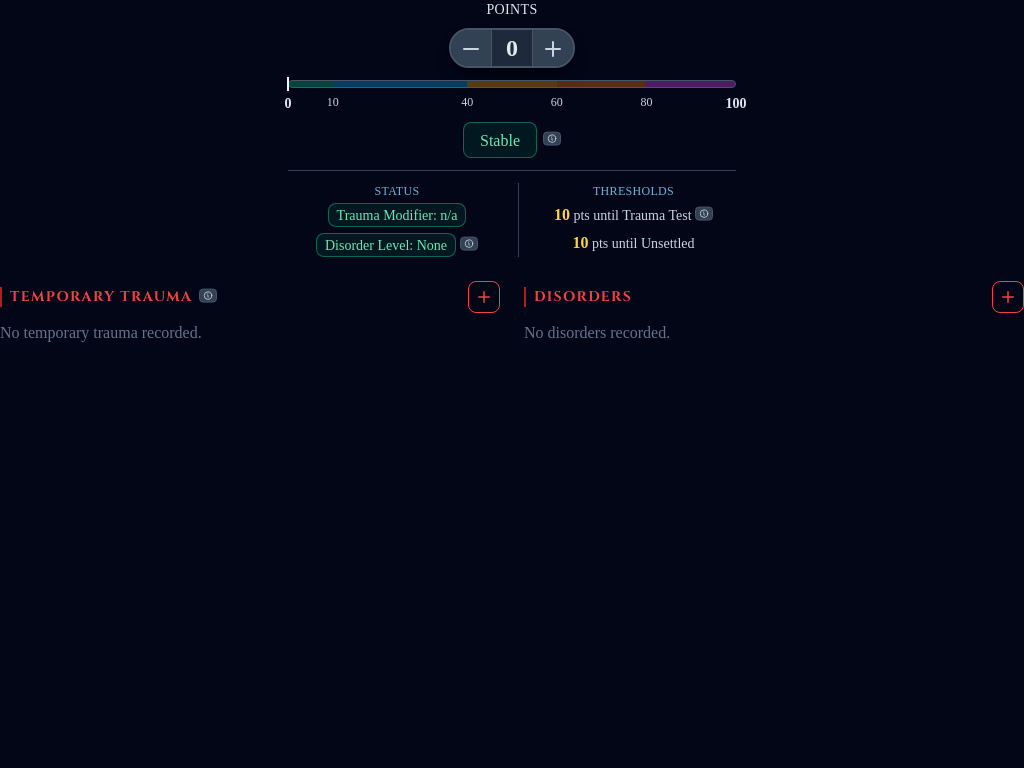
InsanityPanel picker wiring › opens the Disorder picker from the Disorders + Add button
Click the button named "Add Disorder" at (1008, 297), box x1=992 y1=281 x2=1023 y2=313
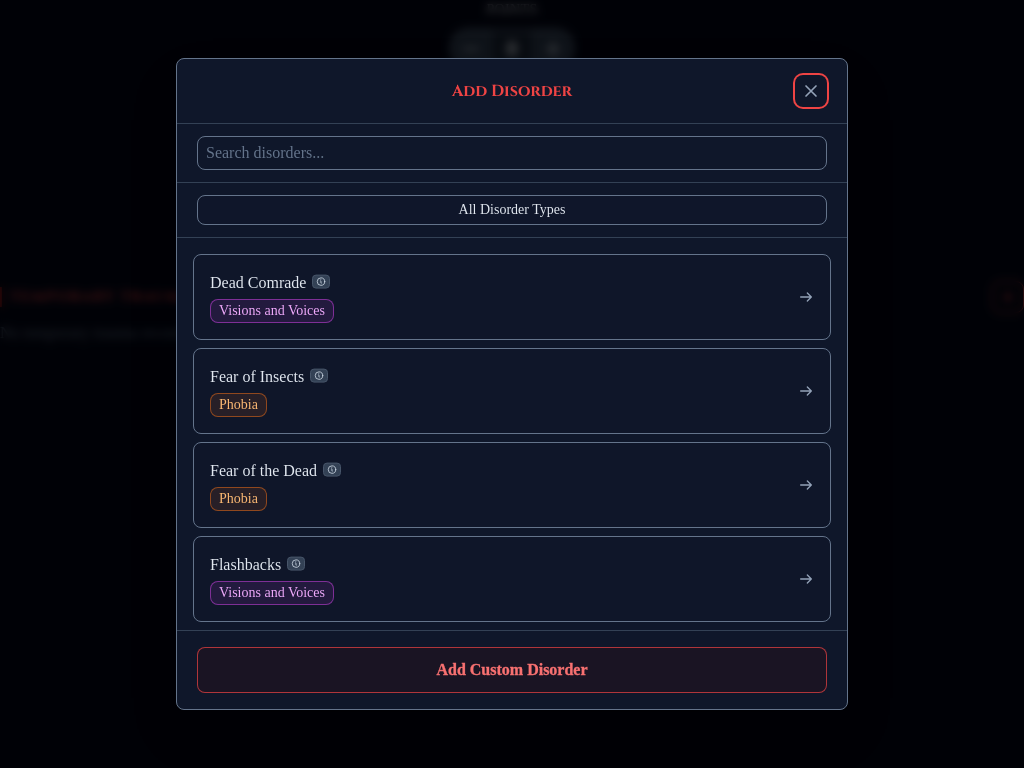
Check: the dialog "Add Disorder" is shown, box x1=176 y1=58 x2=848 y2=710
